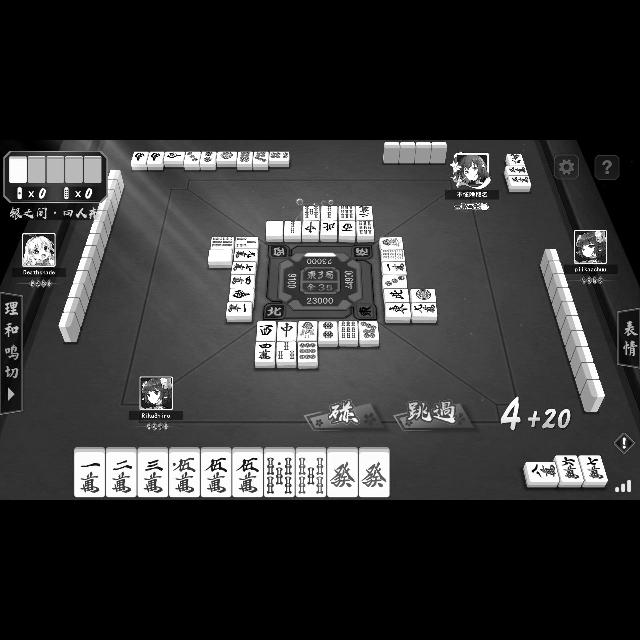1m: (75, 448, 105, 497), (226, 302, 252, 322), (382, 262, 406, 274)
1p: (410, 288, 436, 302), (216, 152, 237, 166)
1s: (297, 321, 317, 341), (379, 238, 403, 248)
2m: (105, 447, 136, 497), (356, 206, 372, 220)
2p: (318, 322, 338, 346), (200, 152, 217, 170)
2s: (284, 220, 300, 242), (321, 206, 337, 220)
3m: (138, 448, 168, 497), (507, 176, 531, 192), (505, 154, 525, 166), (504, 167, 528, 176)
3p: (382, 276, 408, 288), (183, 152, 200, 170)
3s: (276, 342, 296, 368), (236, 238, 258, 248)
4m: (255, 342, 275, 368), (230, 275, 256, 287)
5m: (200, 447, 232, 497), (232, 447, 264, 497), (168, 448, 200, 497)
5s: (264, 448, 296, 498), (296, 448, 326, 498), (303, 206, 319, 220)
6m: (556, 456, 584, 488)
6p: (269, 152, 289, 166)
6s: (210, 237, 234, 249)
7m: (580, 455, 608, 487), (232, 262, 256, 274)
7p: (358, 322, 379, 346), (254, 152, 268, 170)
8m: (524, 462, 560, 488)
8p: (236, 152, 252, 170)
9m: (411, 303, 437, 323), (234, 249, 258, 261)
9s: (298, 342, 318, 368), (338, 322, 358, 346), (356, 222, 374, 242), (381, 249, 405, 261), (339, 206, 355, 220)
chun: (277, 322, 297, 341), (302, 220, 318, 242)
haku: (208, 250, 232, 268), (10, 157, 26, 183), (265, 220, 283, 242)
hatsu: (358, 447, 389, 497), (328, 447, 358, 497)
nan: (146, 152, 164, 170), (229, 289, 255, 301), (163, 152, 184, 166), (132, 152, 148, 170)
pe: (320, 220, 338, 242), (383, 288, 409, 302)
sha: (338, 220, 356, 242), (256, 322, 276, 341)
tou: (385, 303, 411, 323)
